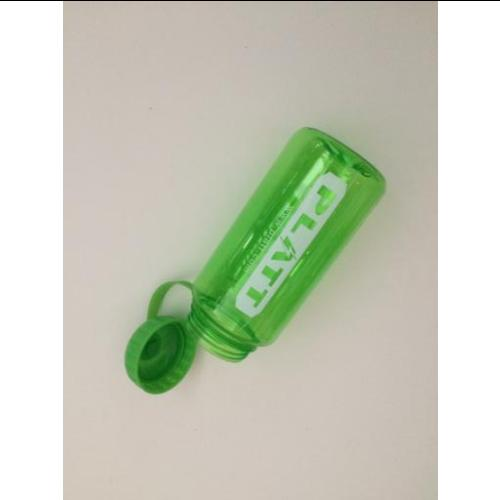plastic: (184, 129, 388, 363)
